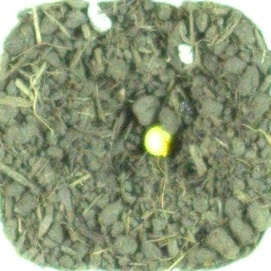pepper seed: (54, 45, 229, 204)
